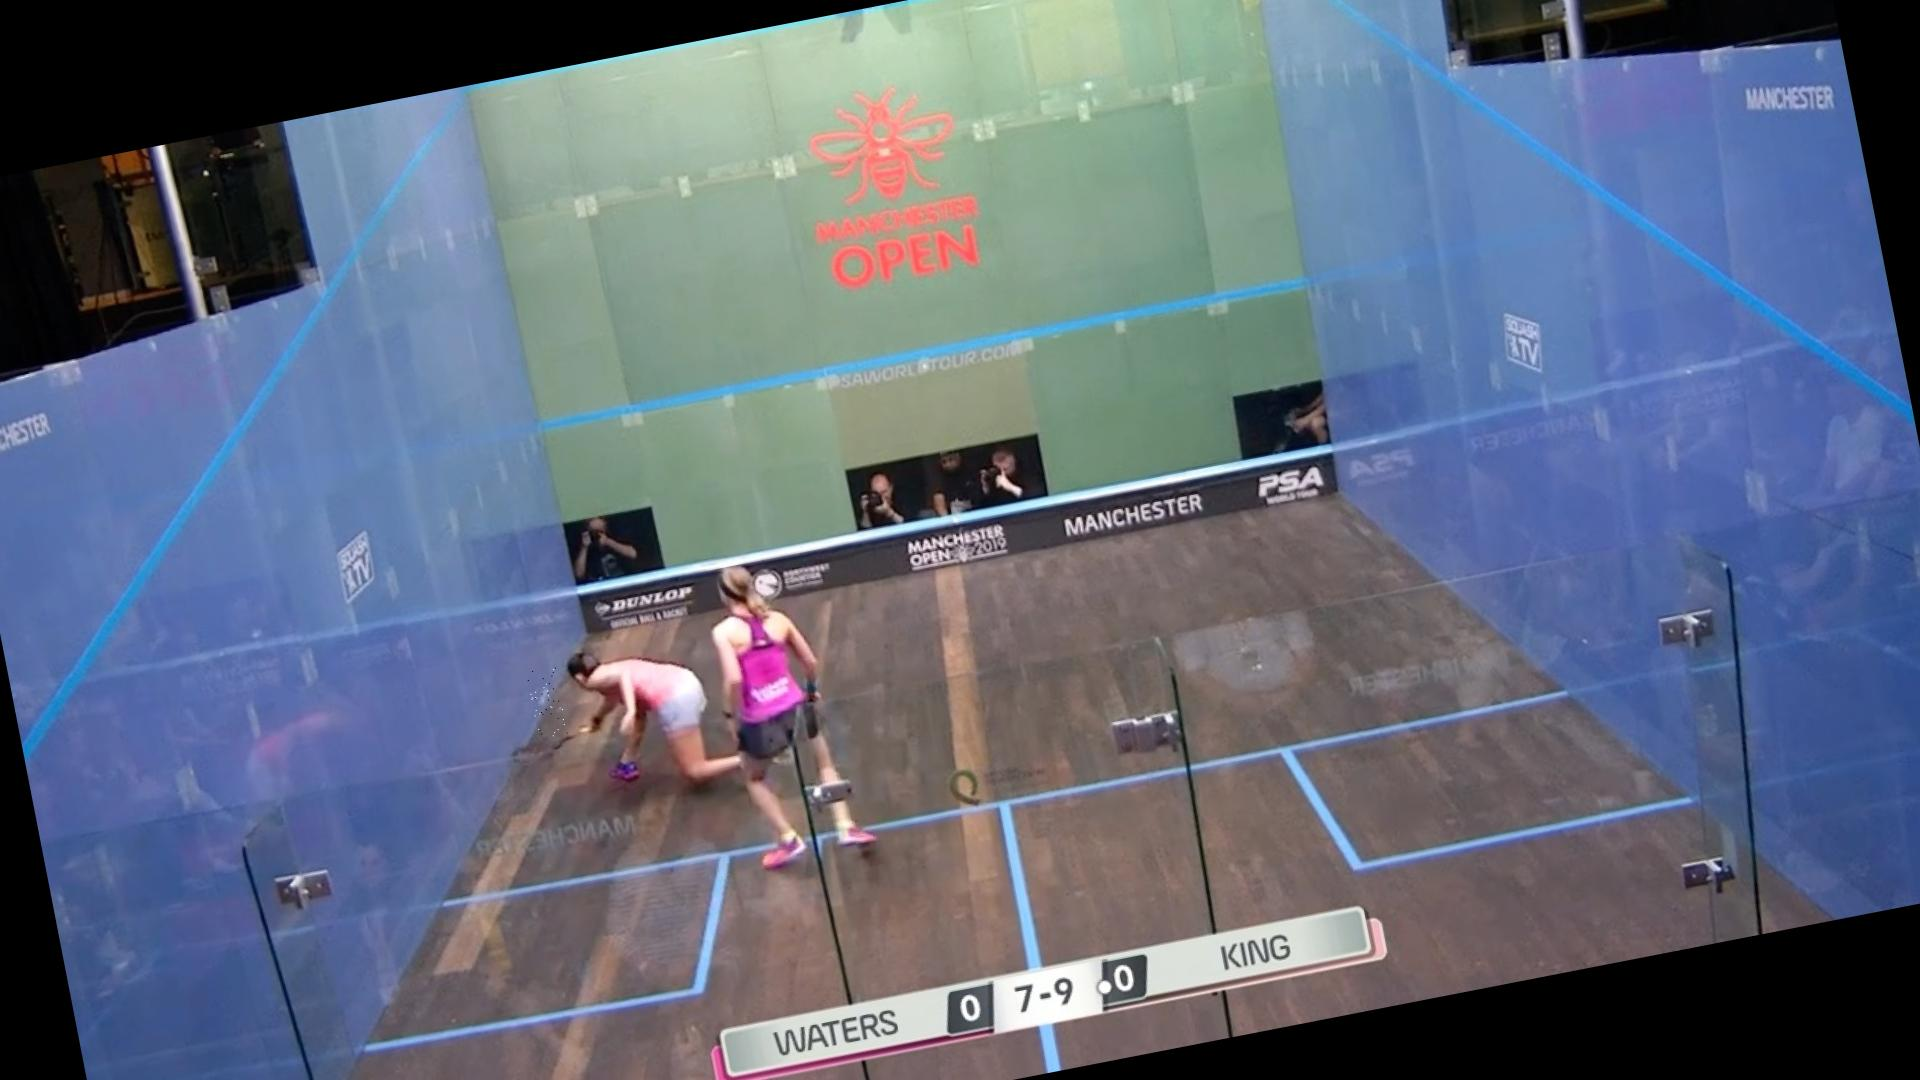Squash-Ball: (526, 663, 568, 738)
